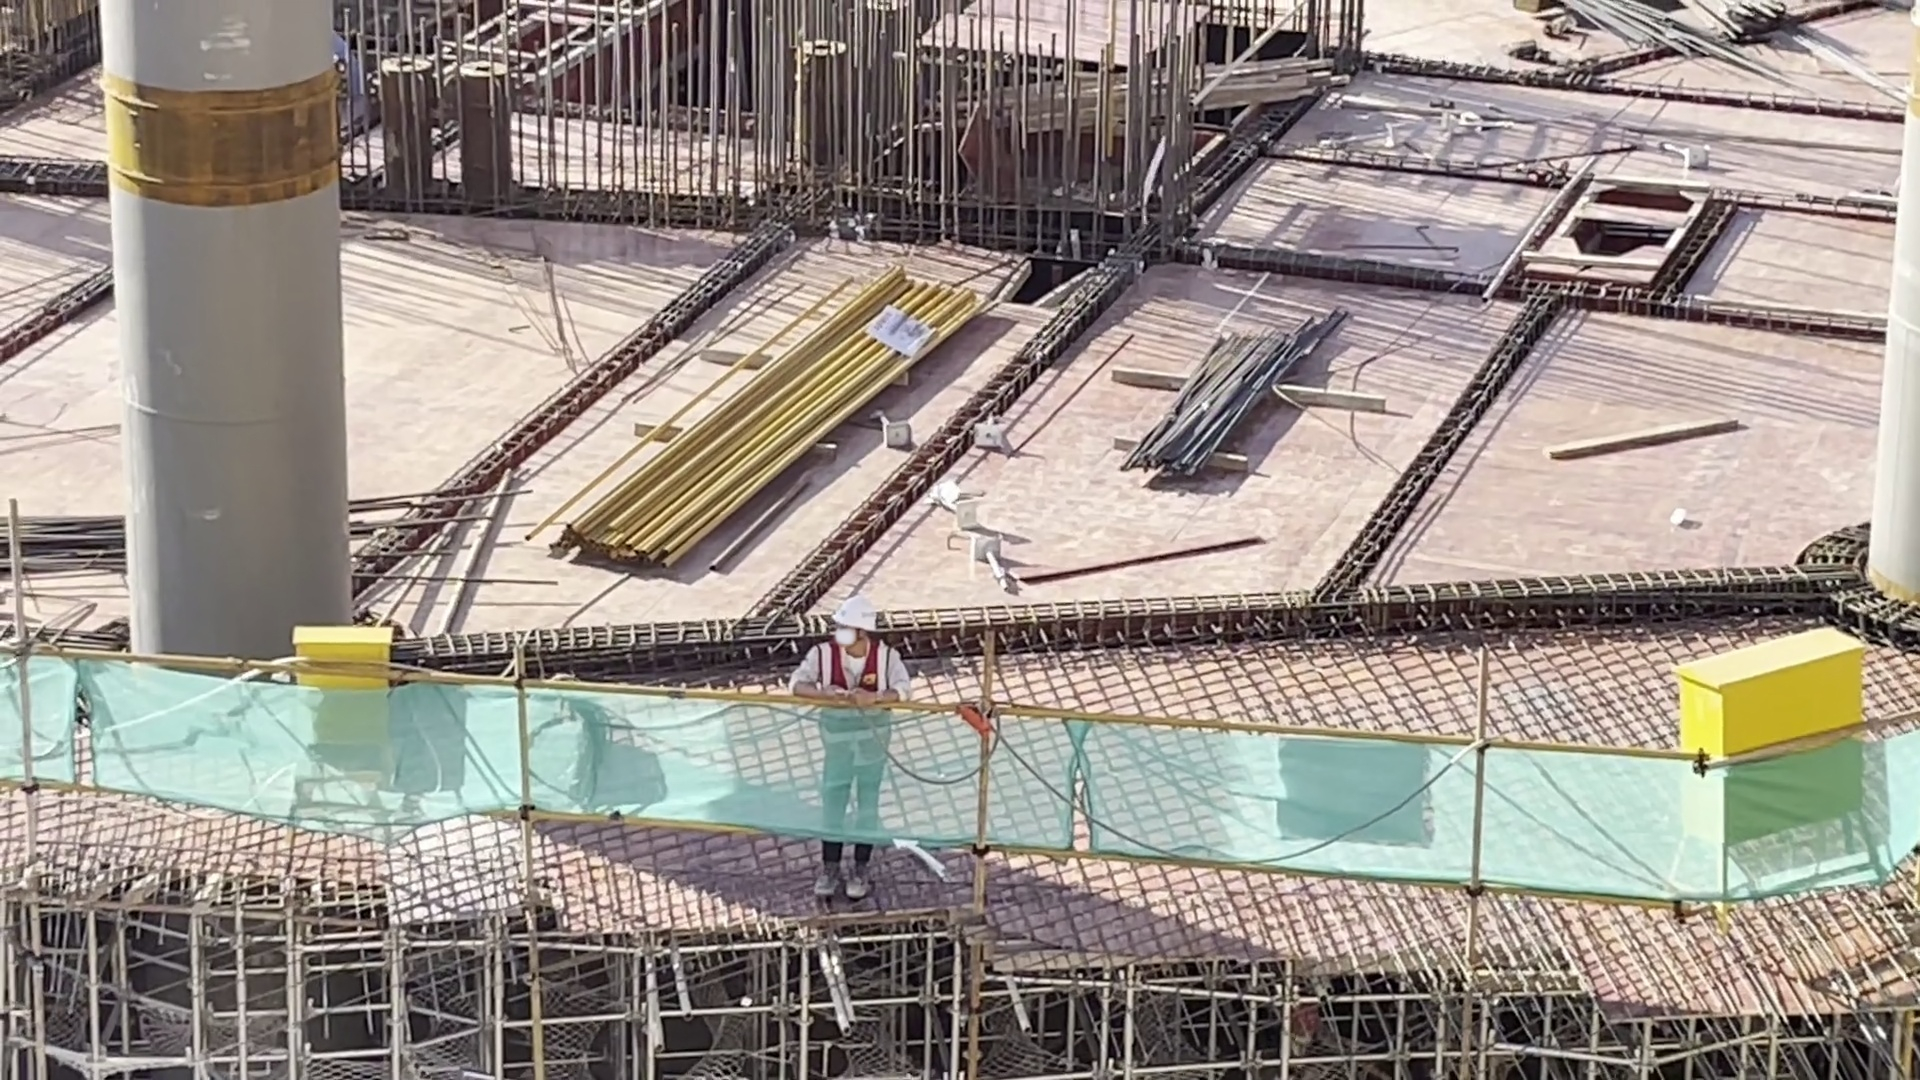ebox: (1659, 598, 1881, 828), (277, 600, 408, 767)
helmet: (829, 597, 881, 635)
person: (803, 586, 895, 887)
vest: (809, 641, 894, 770)
